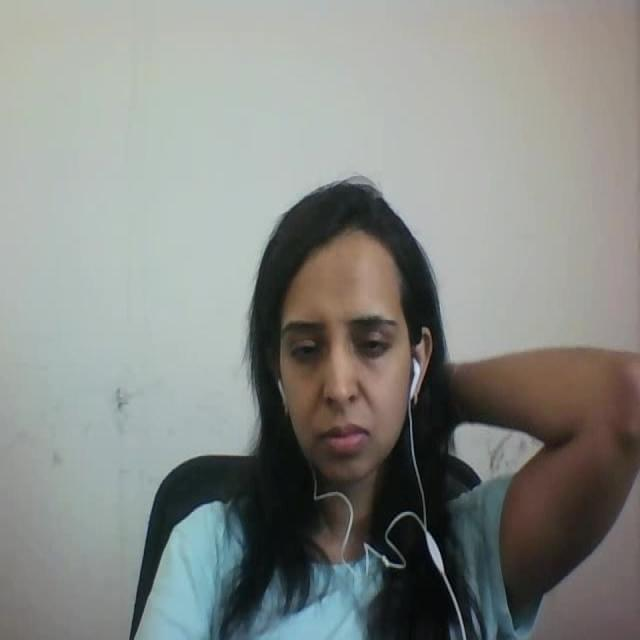Bored: (235, 132, 473, 506)
